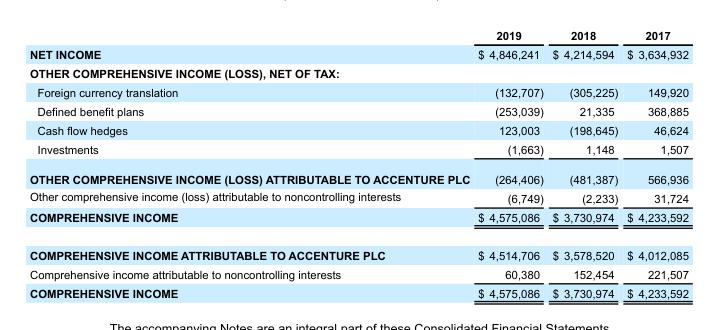table: (28, 29, 688, 299)
table column: (28, 29, 473, 299), (473, 29, 547, 299), (547, 29, 621, 299), (621, 29, 688, 299)
table column header: (28, 29, 688, 44)
table projected row header: (28, 63, 688, 82)
table row: (28, 207, 688, 236), (28, 236, 688, 264), (28, 139, 688, 164), (28, 164, 688, 187), (28, 187, 688, 207), (28, 44, 688, 63), (28, 63, 688, 82), (28, 82, 688, 101), (28, 101, 688, 120), (28, 120, 688, 139), (28, 264, 688, 283), (28, 283, 688, 299), (28, 29, 688, 44)
